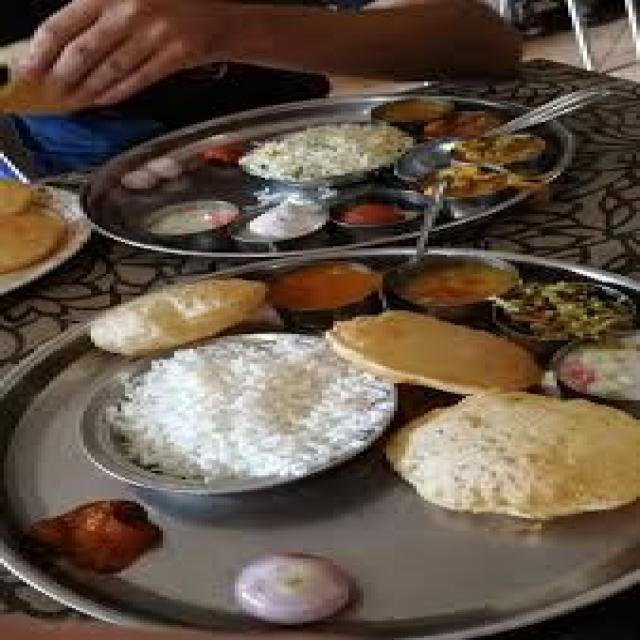dal: (385, 252, 523, 310)
papad: (386, 390, 639, 519)
pickle: (22, 495, 188, 582), (212, 554, 389, 628)
raita: (550, 338, 639, 402)
rice: (99, 336, 386, 495), (238, 119, 412, 188)
sambar-rasam: (381, 252, 527, 312)
sweet: (307, 186, 437, 239), (544, 336, 640, 406)
veg-fry: (420, 127, 565, 192)
